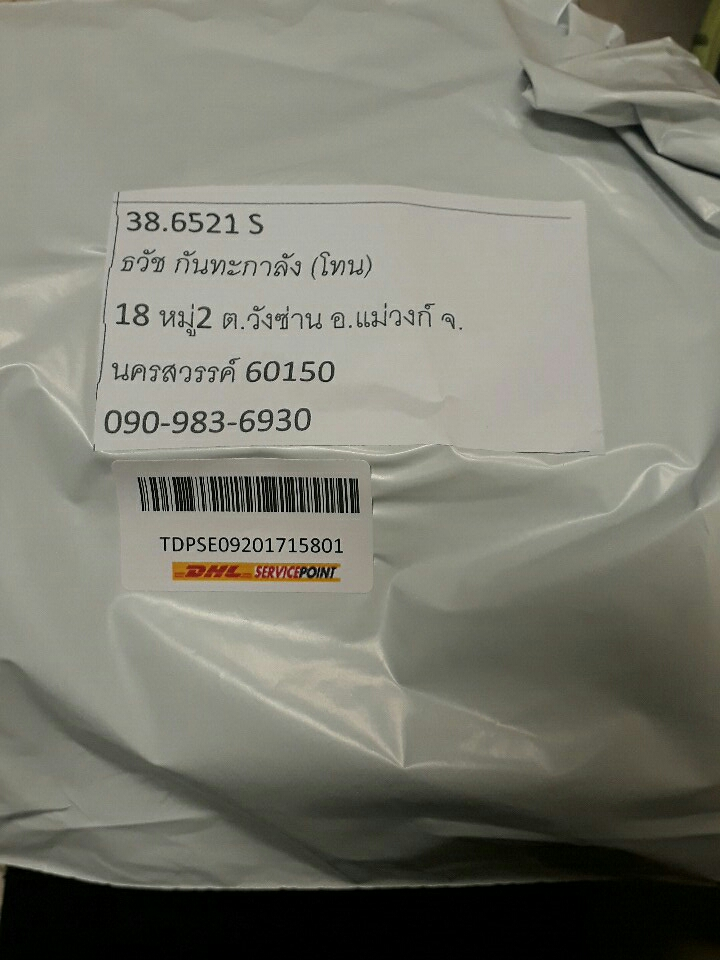ba: (101, 452, 391, 613)
txt: (100, 241, 497, 444)
